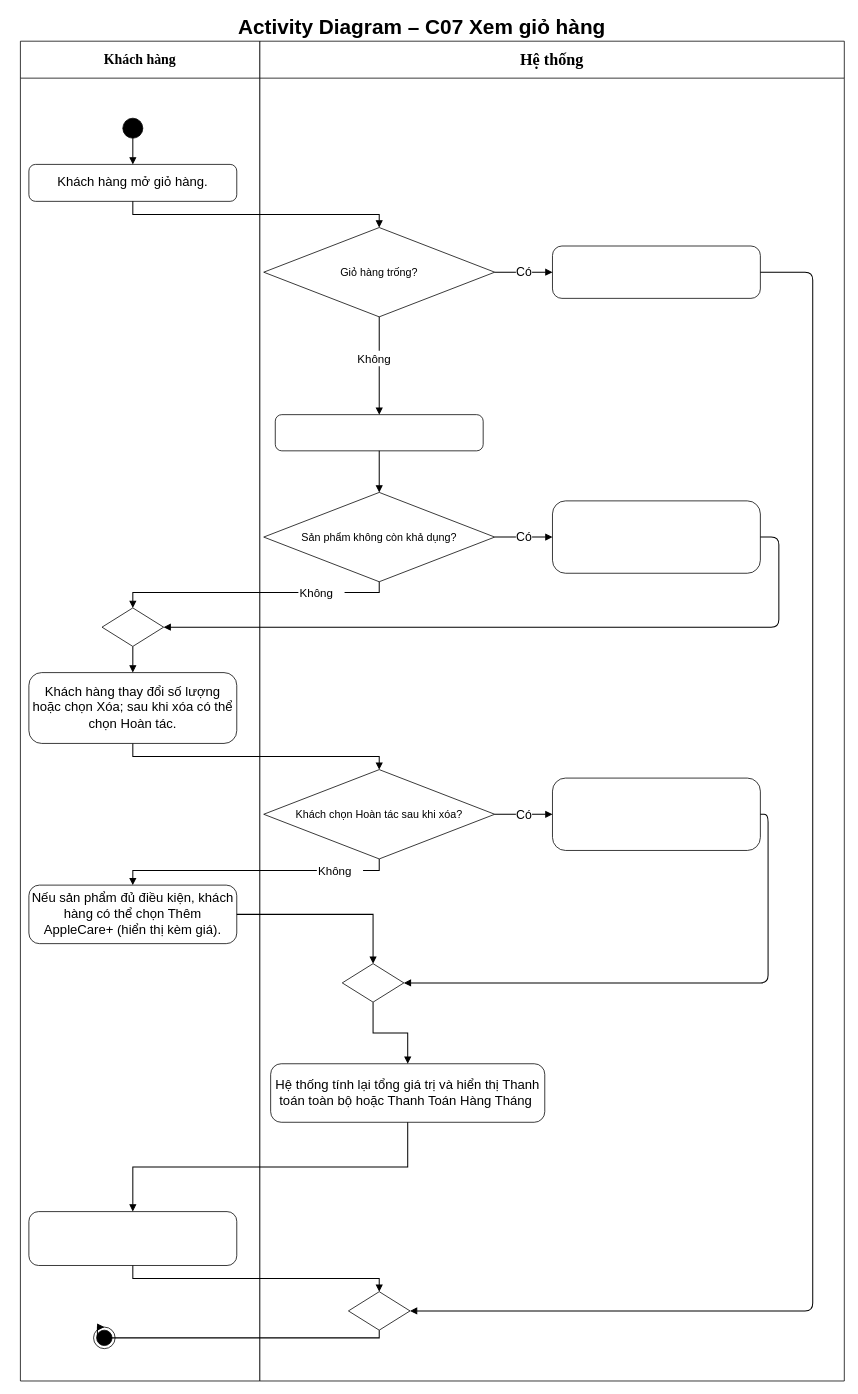
The diagram is 858 pixels wide and 1394 high, and some of its shapes have lost their labels. Each missing label, with the centre of its shape:
Cảnh báo và yêu cầu cập nhật giỏ: point (656, 536)
Hiển thị trạng thái giỏ trống và liên kết tiếp tục mua: point (656, 271)
Hệ thống hiển thị sản phẩm: point (379, 432)
Khách hàng chọn nút Thanh Toán nếu muốn tiếp tục.: point (132, 1238)
Khôi phục sản phẩm vừa xóa vào giỏ hàng: point (656, 813)
